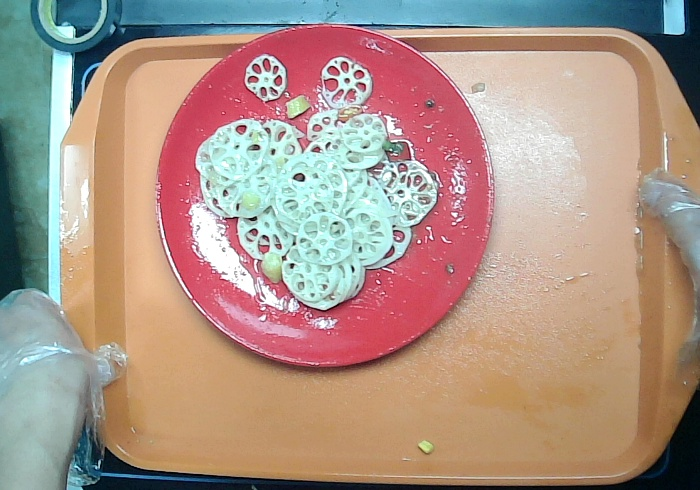HZYJPL-Hong_Se_Yuan_Pan: (147, 20, 499, 378)
